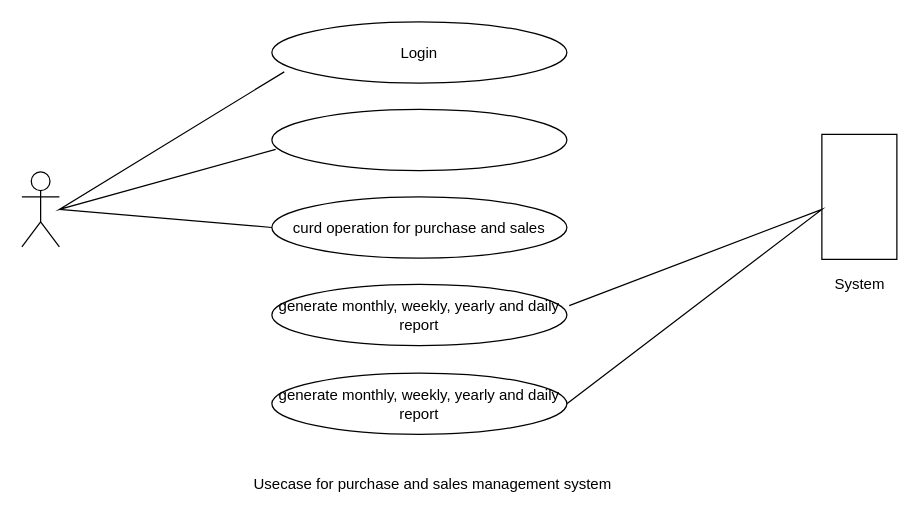
Image size: 919x519. Some labels were removed from this diagram. Here are the shapes that lost their labels. From the top down, the box of each, then its label:
(271, 108, 567, 171): curd operation for suppliers and customer
(21, 171, 59, 247): Actor
